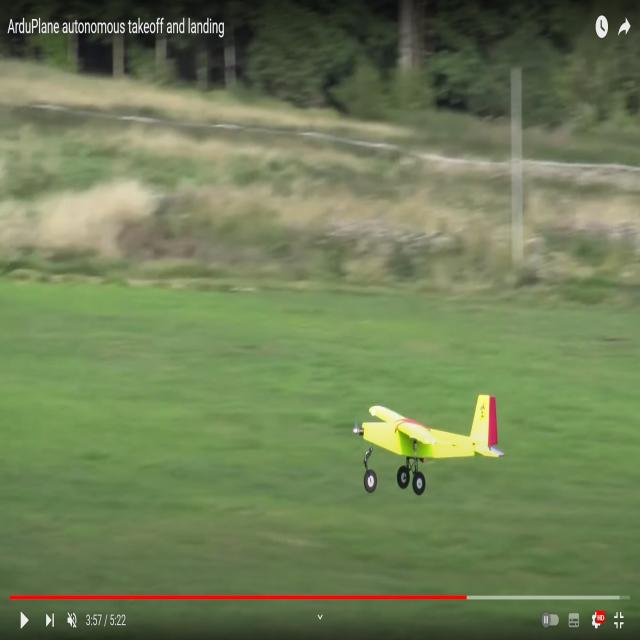iha: (356, 425, 499, 445)
